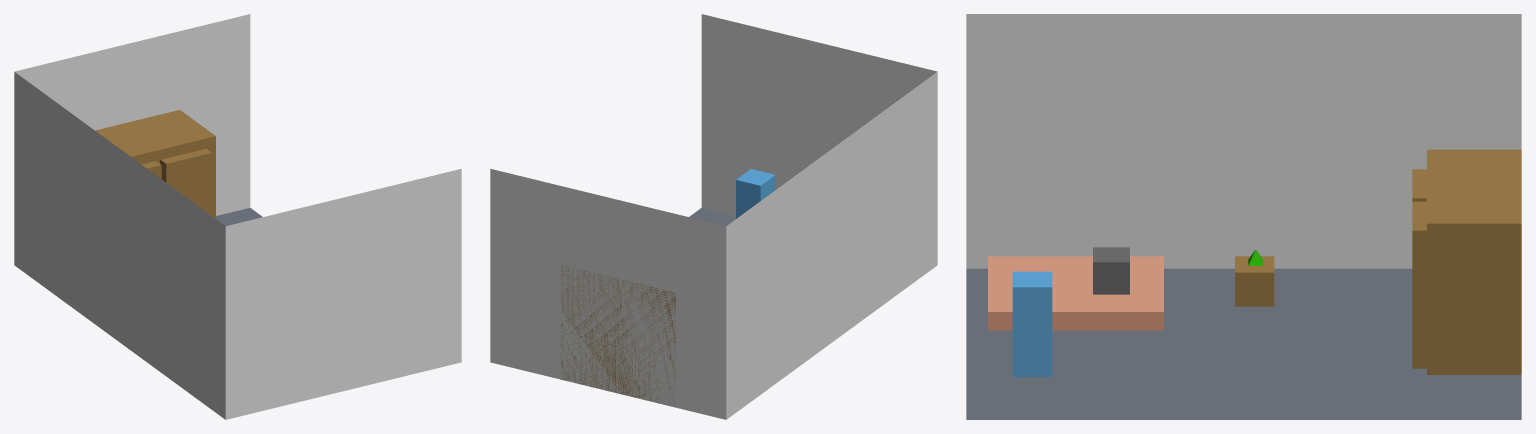
3 renders of one model, left to right at view 1: azimuth 30°, elevation 25°; view 2: azimuth 150°, elevation 25°; view 3: azimuth 270°, elevation 25°, orthographic. The views are drawn at different scales.
Visible parts, largest first — view 1: cuarto, closet, closet_puerta; view 2: cuarto, closet, ninio; view 3: cuarto, closet, cama, ninio, closet_puerta, cajon, gato.
Part boxes in pixels (bbox=[...]): cuarto: bbox=[14, 14, 461, 419]; closet: bbox=[95, 110, 215, 218]; closet_puerta: bbox=[160, 149, 211, 215]; cuarto: bbox=[490, 14, 937, 419]; closet: bbox=[560, 266, 675, 406]; ninio: bbox=[736, 169, 775, 218]; cuarto: bbox=[966, 14, 1521, 419]; closet: bbox=[1427, 149, 1521, 374]; cama: bbox=[988, 256, 1163, 330]; ninio: bbox=[1012, 271, 1052, 376]; closet_puerta: bbox=[1412, 201, 1426, 368]; cajon: bbox=[1235, 256, 1274, 306]; gato: bbox=[1093, 247, 1129, 294].
Bounding box in the file's own units: 471 × 369 × 731.
